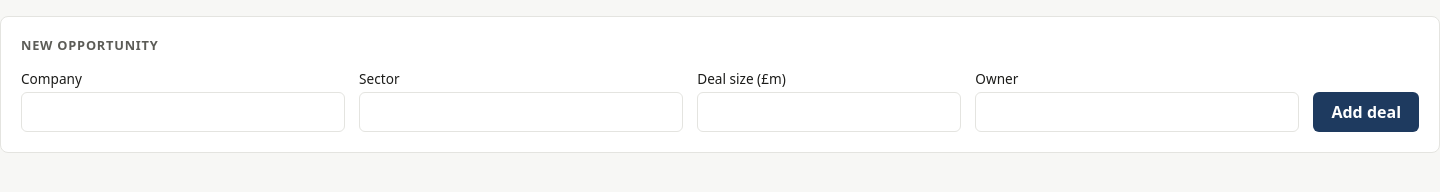
Test: AddDealForm › rejects a company of
Click the button "Add deal" at (1366, 112), box [1313,92,1419,132]
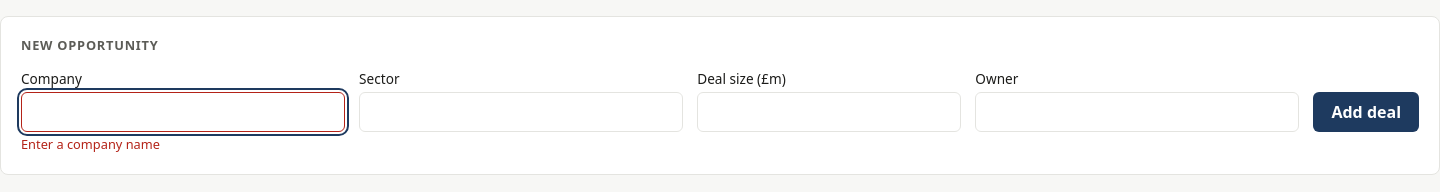
Expected: the message reads "Enter a company name", [21,135,160,153]
